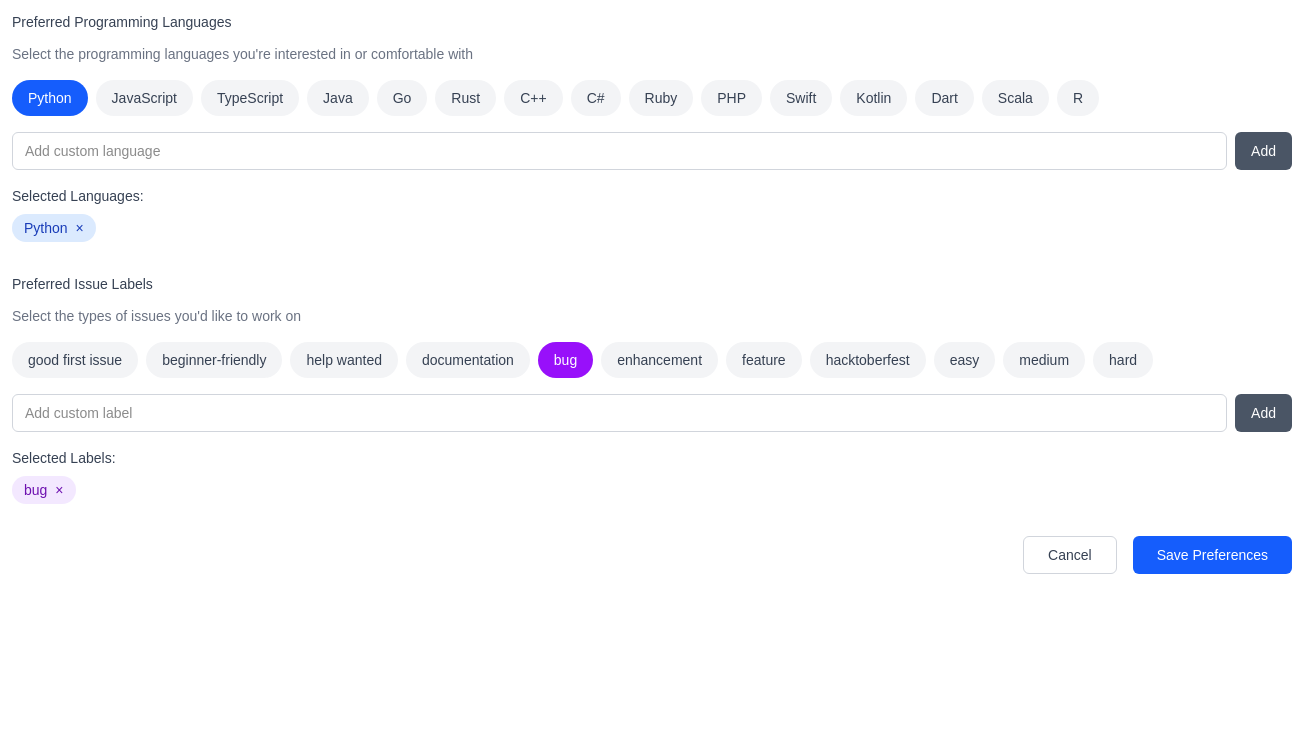
PreferencesForm › disables submit button while loading
The width and height of the screenshot is (1304, 732).
What coordinates should you click on to do the following:
click the button "Save Preferences"
I would click on:
 (1212, 555)
Its box is [1133,536,1292,574].
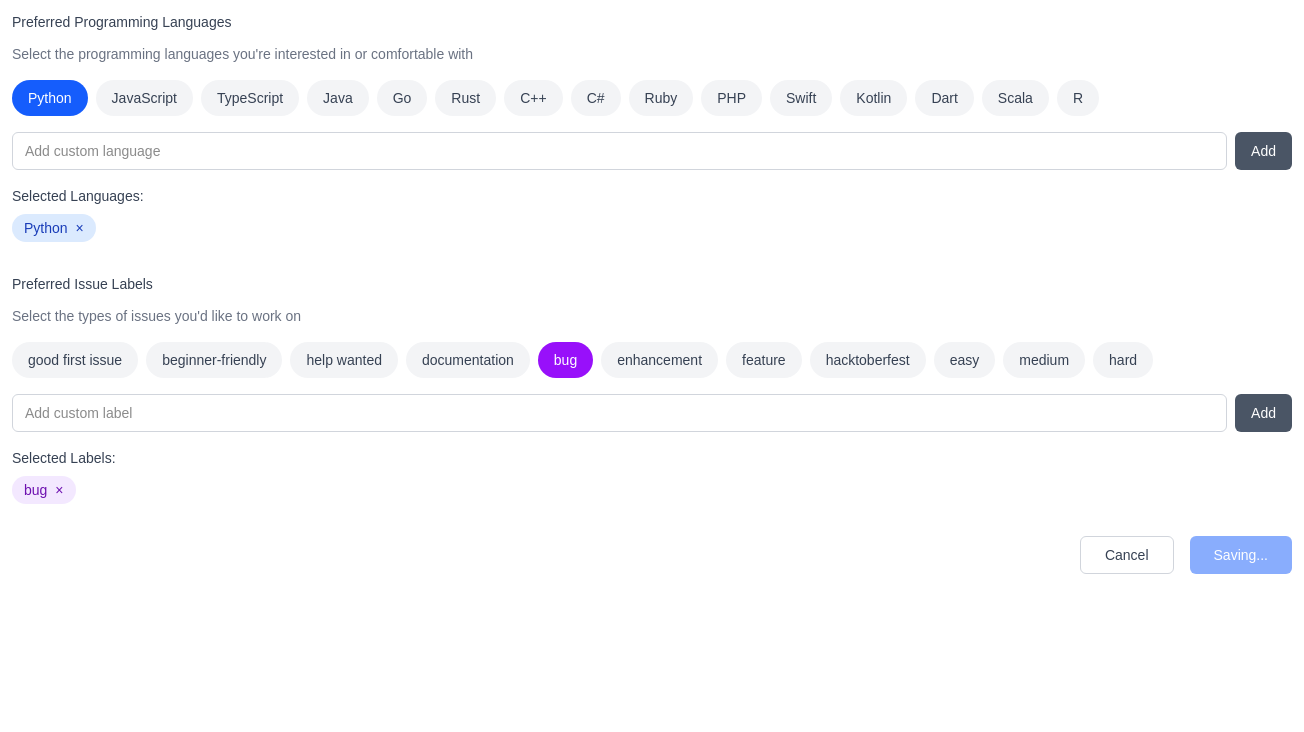
Now the button "Saving..." is disabled, box [1190,536,1292,574]
